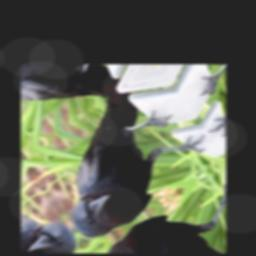Crow: (24, 66, 223, 250)
